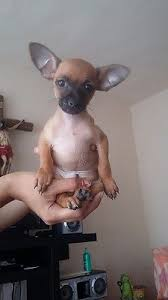chihuahua: (14, 31, 141, 247)
